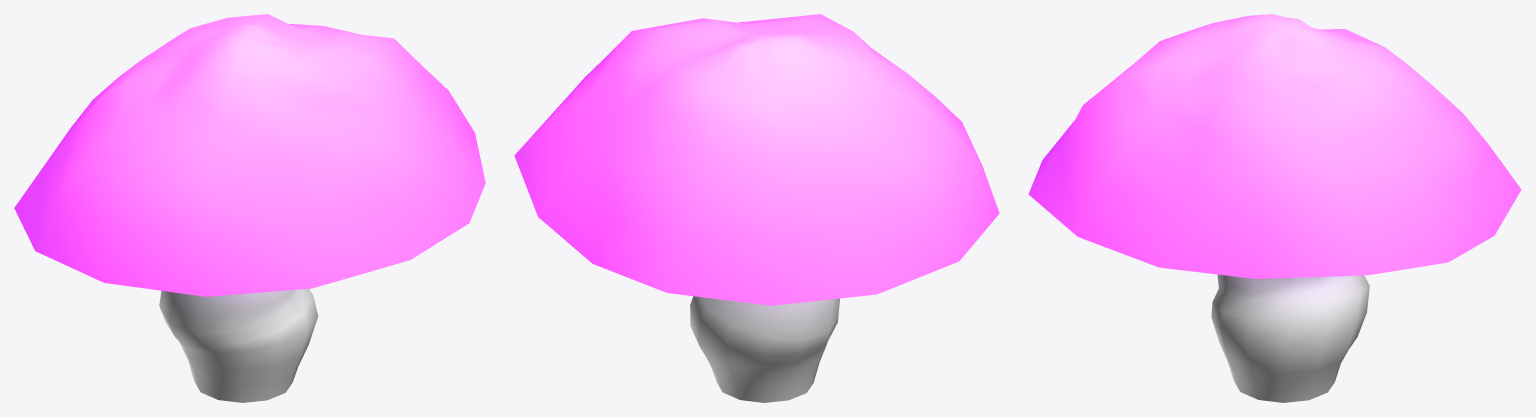
File: mushroom_0.glb
3 renders of one model, left to right at view 1: azimuth 30°, elevation 25°; view 2: azimuth 150°, elevation 25°; view 3: azimuth 270°, elevation 25°, orthographic. The views are drawn at different scales.
Parts seen in each view (by area): view 1: geo1; view 2: geo1; view 3: geo1.
Part boxes in pixels (left/top/right/bottom): geo1: left=14, top=14, right=485, bottom=402; geo1: left=514, top=14, right=999, bottom=402; geo1: left=1028, top=14, right=1521, bottom=402.
Size of the model in its own units: 0.2779 by 0.219 by 0.2749.
